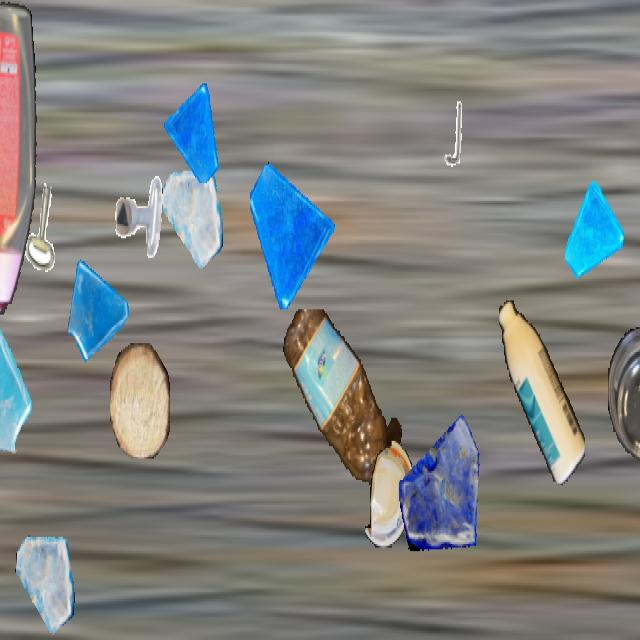glass: (399, 404, 485, 556), (250, 158, 334, 308), (65, 249, 131, 366), (162, 165, 222, 272), (15, 532, 75, 638), (565, 182, 623, 284), (164, 82, 220, 181), (0, 318, 33, 461)
metal: (17, 178, 73, 277), (114, 172, 166, 265), (432, 98, 472, 169)
plastic: (280, 310, 404, 483), (499, 300, 585, 486), (0, 2, 41, 314), (365, 441, 415, 547), (608, 327, 640, 459)
wood: (110, 343, 170, 457), (0, 16, 34, 73)
